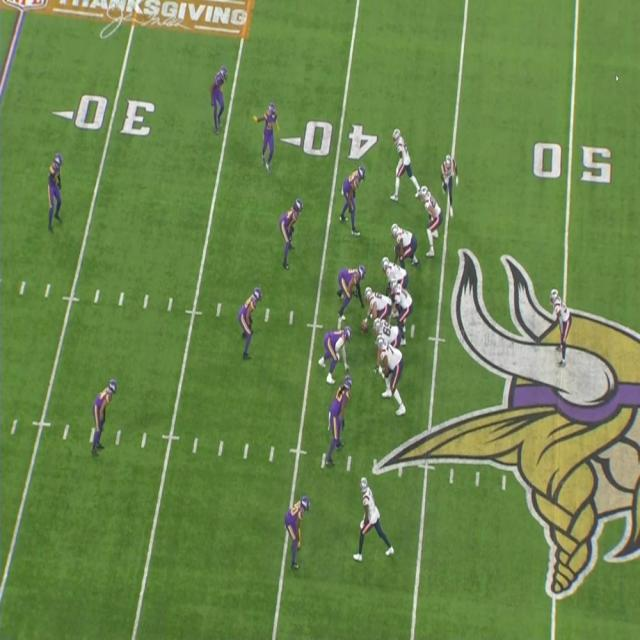center: (365, 288, 391, 326)
db: (92, 376, 116, 456), (288, 495, 308, 569), (262, 101, 278, 172), (212, 66, 228, 134), (51, 150, 65, 226)
lb: (280, 199, 302, 268), (240, 295, 260, 362)
qb: (394, 280, 414, 332)
skill: (361, 477, 386, 560), (394, 126, 419, 199), (419, 185, 442, 257), (550, 288, 572, 361), (443, 153, 458, 214)
